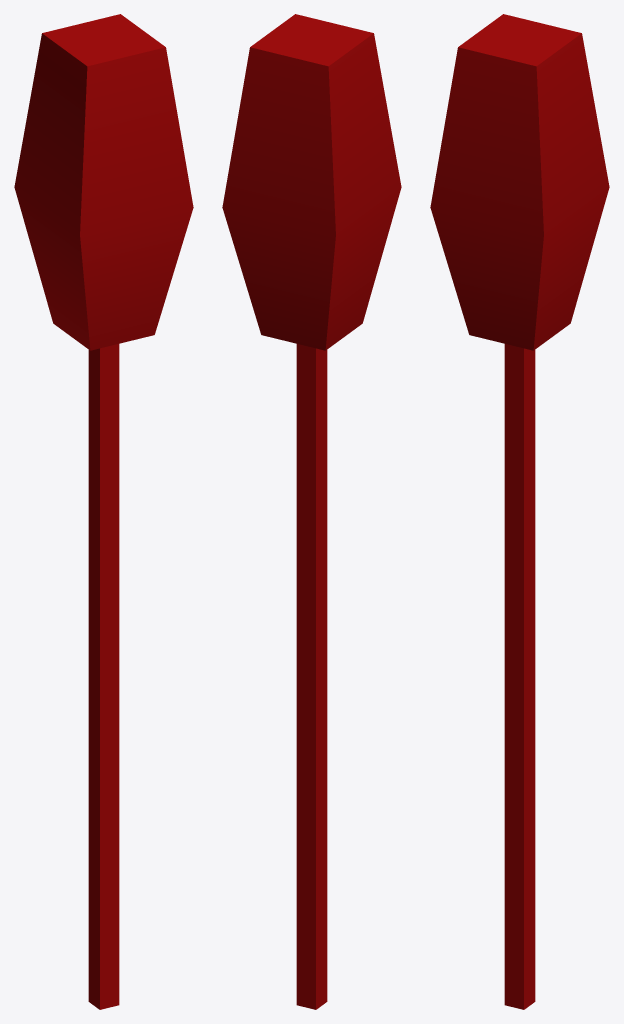
File: SM_Prop_Tiki_Torch_01_Collision.glb
3 renders of one model, left to right at view 1: azimuth 30°, elevation 25°; view 2: azimuth 150°, elevation 25°; view 3: azimuth 330°, elevation 25°, orthographic.
Parts seen in each view (by area): view 1: SM_Prop_Tiki_Torch_01_Collision; view 2: SM_Prop_Tiki_Torch_01_Collision; view 3: SM_Prop_Tiki_Torch_01_Collision.
Part boxes in pixels (box(x1,y1,x2,y2)): SM_Prop_Tiki_Torch_01_Collision: box(14, 14, 193, 1009); SM_Prop_Tiki_Torch_01_Collision: box(222, 14, 401, 1009); SM_Prop_Tiki_Torch_01_Collision: box(430, 14, 609, 1009).
Size of the model in its own units: 0.2737 by 2.22 by 0.2737.
